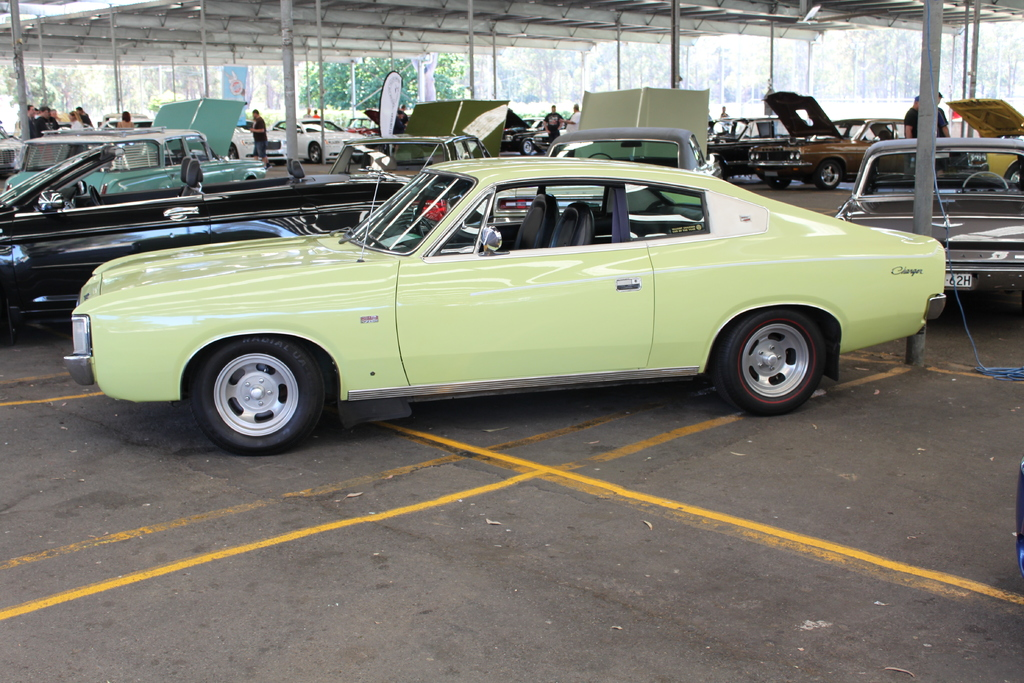cars: (0, 83, 1023, 457)
